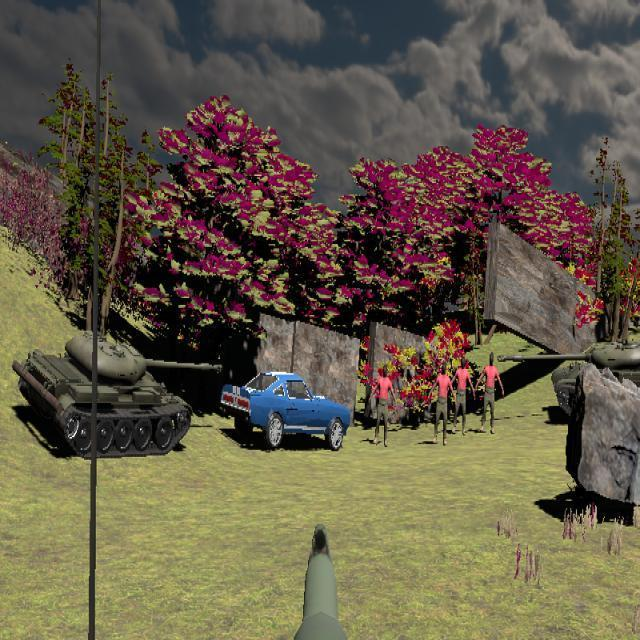Human: (476, 352, 505, 435), (427, 362, 456, 444), (428, 361, 456, 445), (369, 365, 397, 446), (448, 356, 475, 435)
Tank: (11, 330, 224, 459), (499, 339, 640, 418)
car: (221, 370, 353, 451)
